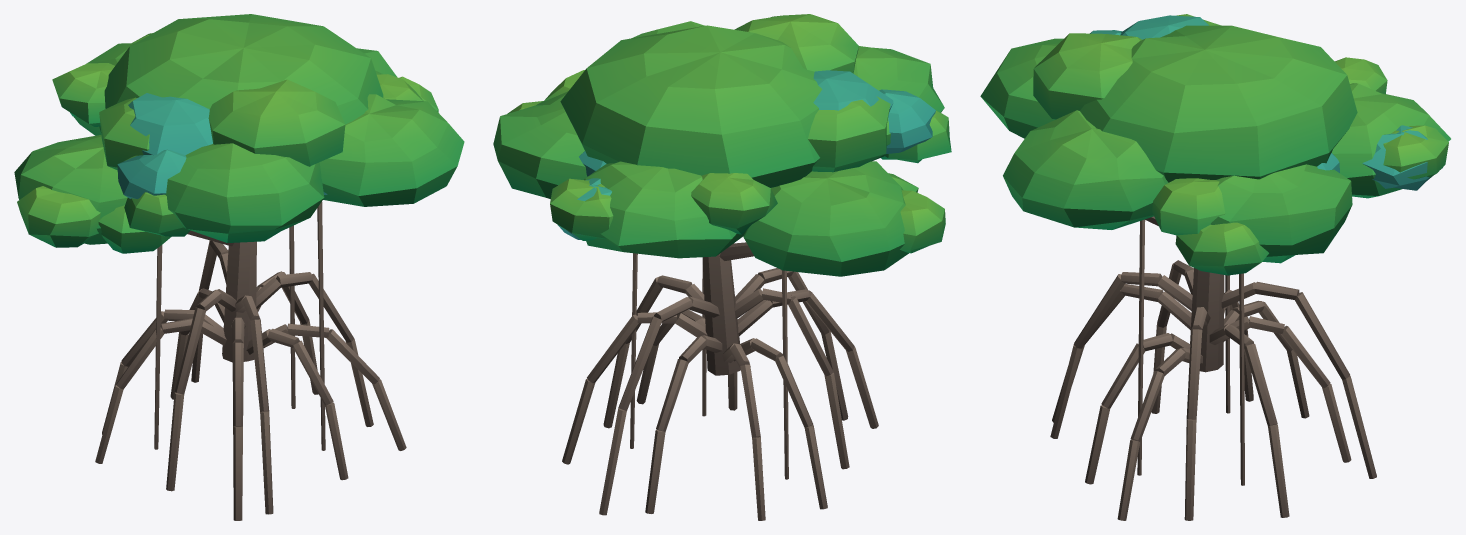
File: mangrove_tree.glb
3 views of the same model, side by side, from view 1: azimuth 30°, elevation 25°; view 2: azimuth 150°, elevation 25°; view 3: azimuth 270°, elevation 25° (orthographic). The views are drawn at different scales.
Visible parts, largest first — view 1: mangrove_tree; view 2: mangrove_tree; view 3: mangrove_tree.
Boxes of the visible parts, <box> form: mangrove_tree: <box>14,14,464,520</box>; mangrove_tree: <box>493,14,951,520</box>; mangrove_tree: <box>980,14,1450,520</box>.
Bounding box in the file's own units: 8.92 × 8.25 × 8.54.
Materials: 1 (1 with a texture image).
